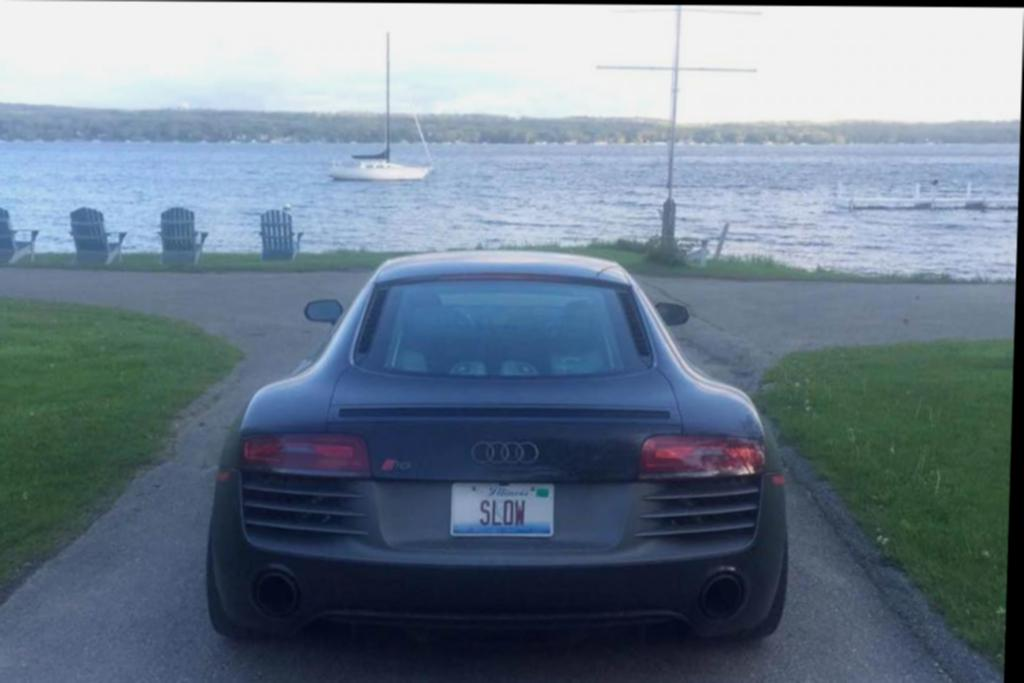License_Plate: (456, 483, 564, 540)
